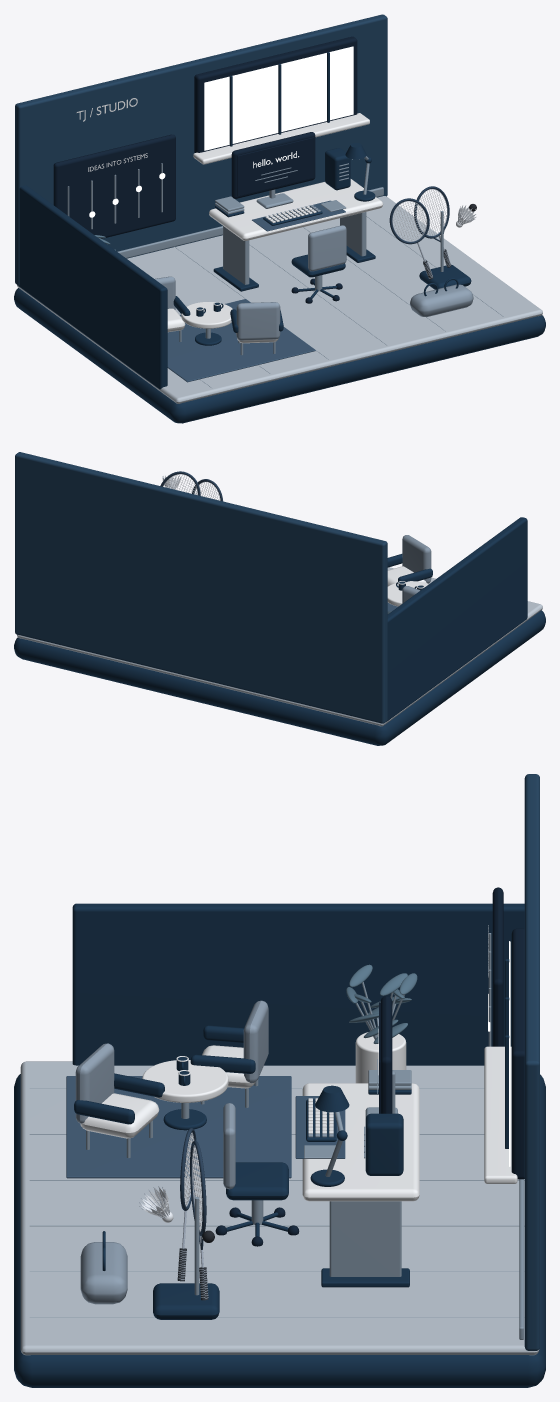
Rendered from room.glb.
3 views of the same model, one above another, from view 1: azimuth 30°, elevation 25°; view 2: azimuth 150°, elevation 25°; view 3: azimuth 270°, elevation 25° (orthographic). The views are drawn at different scales.
Visible parts, largest first — view 1: Concrete floor, Back wall, Left low wall, Floating foundation, Daylight glass, Workbench panel, Conversation rug, Desk slab, Display screen, Window frame, Window sill, Chair back.001 (+10 smaller); view 2: Back wall, Left low wall, Floating foundation, Concrete floor, Chair back.001, Conversation table; view 3: Concrete floor, Left low wall, Floating foundation, Conversation rug, Back wall, Desk slab, Desk leg.001, Window frame, Window sill, Sports bag, Desktop tower, Conversation table (+16 smaller).
Boxes of the visible parts, bbox=[...] form: Concrete floor: bbox=[17, 196, 542, 403]; Back wall: bbox=[15, 14, 387, 285]; Left low wall: bbox=[19, 185, 167, 389]; Floating foundation: bbox=[14, 288, 545, 423]; Daylight glass: bbox=[204, 46, 353, 150]; Workbench panel: bbox=[53, 134, 175, 238]; Conversation rug: bbox=[167, 299, 315, 382]; Desk slab: bbox=[209, 179, 383, 240]; Display screen: bbox=[237, 137, 313, 196]; Window frame: bbox=[194, 36, 357, 152]; Window sill: bbox=[193, 113, 369, 164]; Chair back.001: bbox=[236, 302, 280, 340]; Back wall: bbox=[15, 452, 387, 723]; Left low wall: bbox=[387, 517, 527, 721]; Floating foundation: bbox=[14, 610, 545, 745]; Concrete floor: bbox=[17, 567, 542, 726]; Chair back.001: bbox=[402, 535, 431, 583]; Conversation table: bbox=[387, 581, 428, 606]; Concrete floor: bbox=[20, 1061, 539, 1355]; Left low wall: bbox=[72, 903, 524, 1065]; Floating foundation: bbox=[14, 1074, 545, 1387]; Conversation rug: bbox=[66, 1076, 291, 1178]; Back wall: bbox=[524, 774, 539, 1350]; Desk slab: bbox=[302, 1083, 419, 1201]; Desk leg.001: bbox=[329, 1201, 401, 1276]; Window frame: bbox=[511, 928, 524, 1179]; Window sill: bbox=[484, 1046, 517, 1183]; Sports bag: bbox=[80, 1242, 127, 1304]; Desktop tower: bbox=[365, 1113, 403, 1175]; Conversation table: bbox=[142, 1060, 228, 1102].
Bounding box in the file's own units: 7.7 × 4.03 × 5.9.
